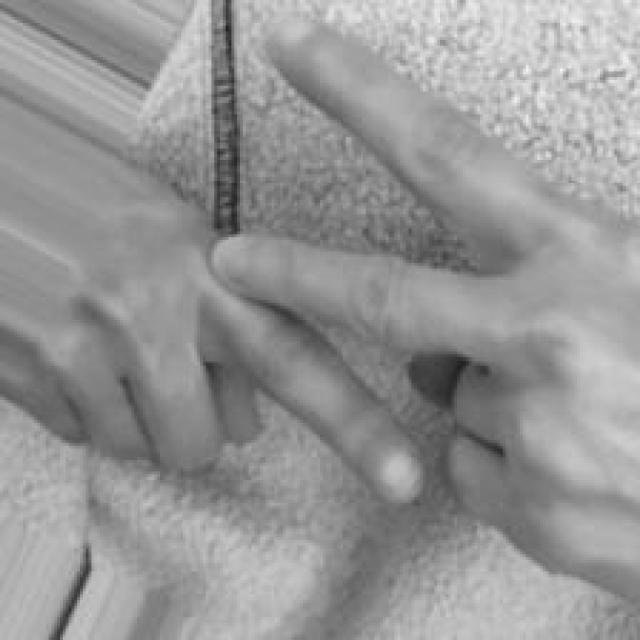Z: (1, 10, 640, 608)
